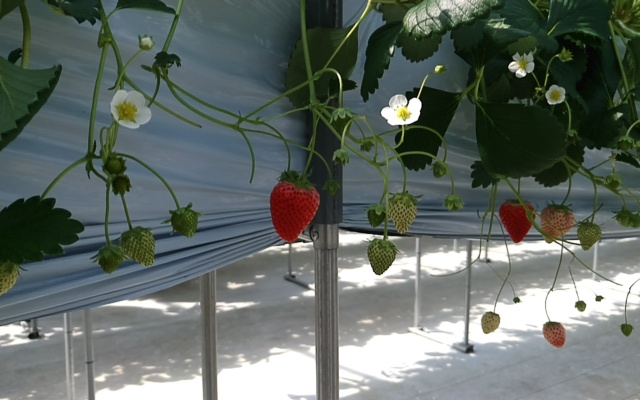GreenStrawberry: (117, 225, 158, 267), (540, 203, 576, 246), (386, 190, 419, 236), (366, 237, 398, 276), (167, 204, 201, 239), (1, 257, 25, 301), (96, 244, 124, 275), (576, 221, 603, 252), (542, 321, 567, 349), (365, 204, 390, 227), (479, 311, 502, 336), (620, 324, 633, 337)
MatureStrawberry: (268, 174, 322, 245), (498, 199, 535, 244)
